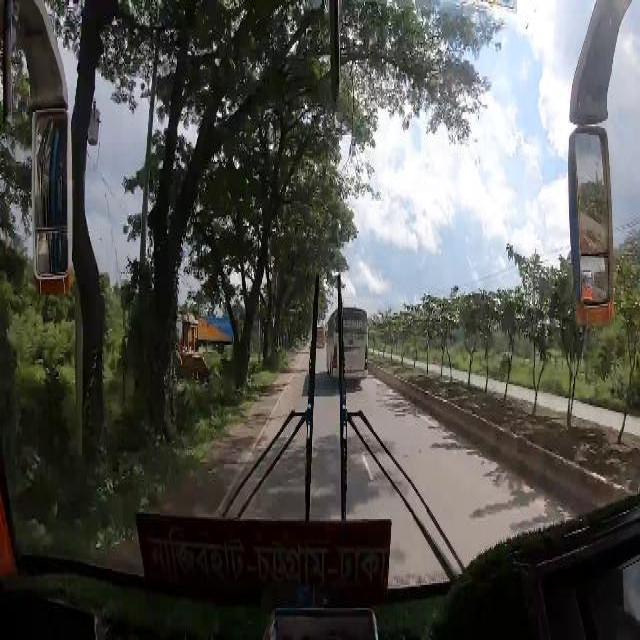bus: (326, 308, 366, 378)
truck: (192, 314, 234, 348)
